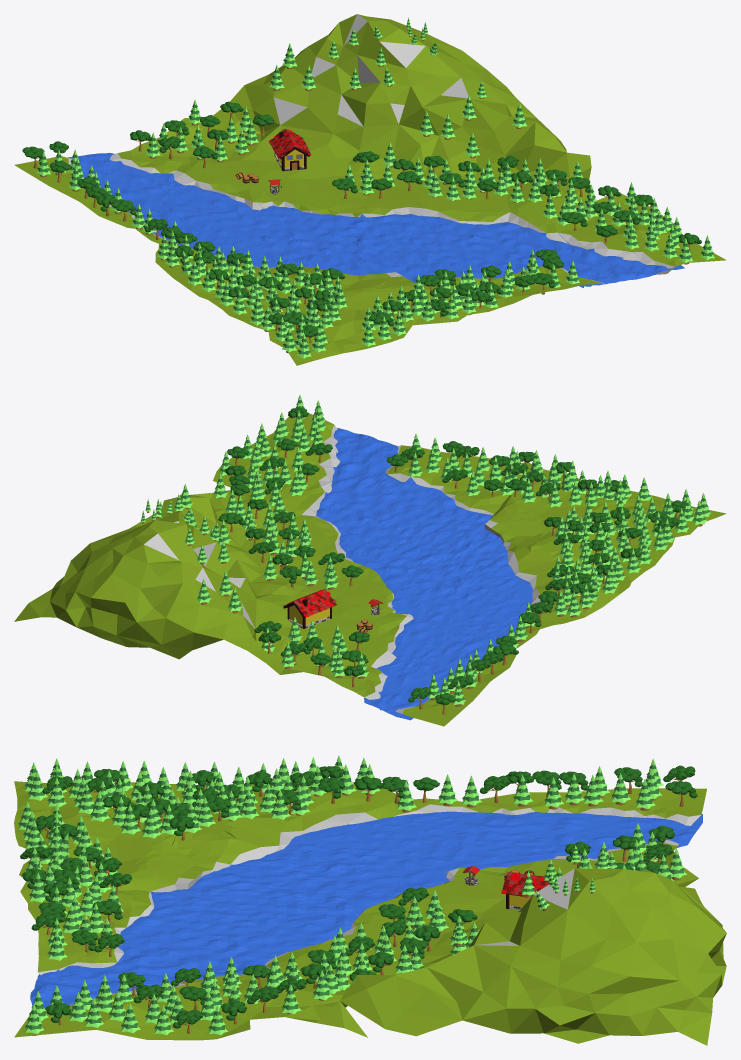
File: Low_Poly_Forest.glb
3 views of the same model, one above another, from view 1: azimuth 30°, elevation 25°; view 2: azimuth 150°, elevation 25°; view 3: azimuth 270°, elevation 25° (orthographic). The views are drawn at different scales.
Visible parts, largest first — view 1: Ground, Lake, House; view 2: Ground, Lake, House; view 3: Ground, Lake, House.
Boxes of the visible parts, left/top/right/bottom form: Ground: left=14, top=14, right=726, bottom=365; Lake: left=67, top=153, right=684, bottom=287; House: left=269, top=129, right=311, bottom=171; Ground: left=14, top=413, right=726, bottom=726; Lake: left=315, top=428, right=532, bottom=720; House: left=283, top=589, right=336, bottom=628; Ground: left=14, top=781, right=726, bottom=1045; Lake: left=30, top=811, right=702, bottom=1008; House: left=501, top=872, right=549, bottom=909.
Size of the model in its own units: 13.03 by 4.04 by 15.26.
